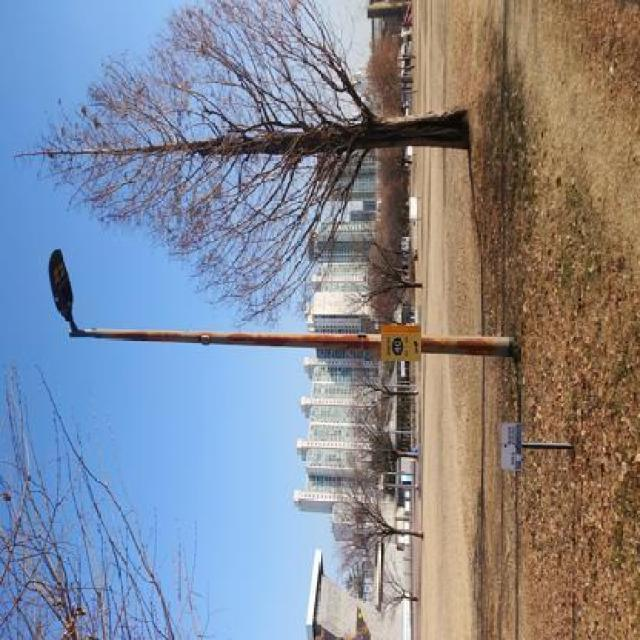pole: (85, 310, 522, 372)
